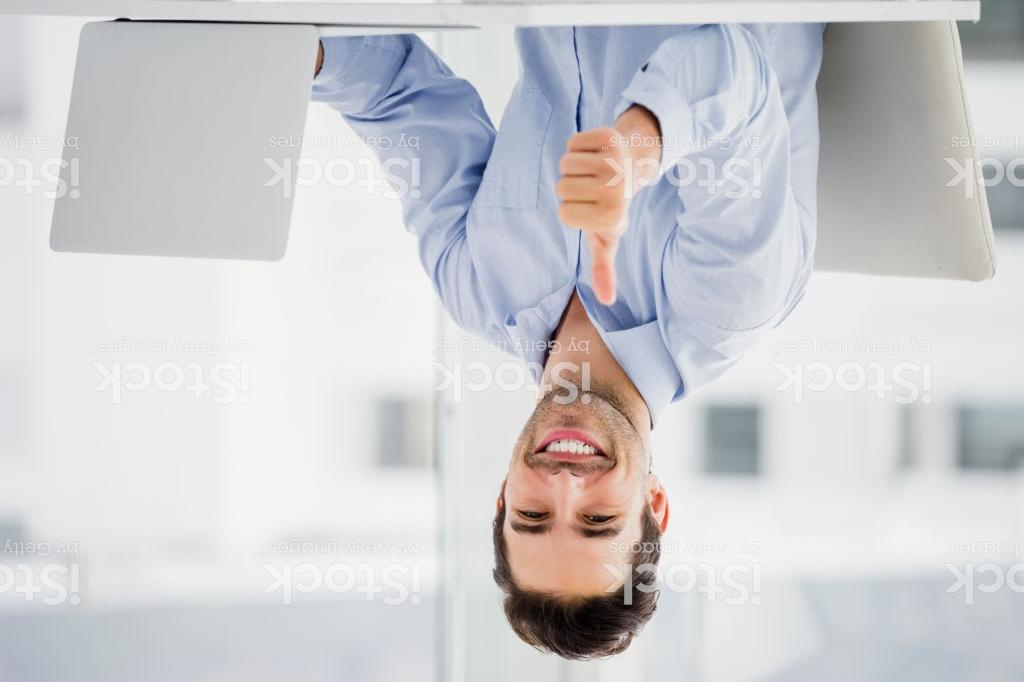thumbsdown: (554, 127, 632, 310)
